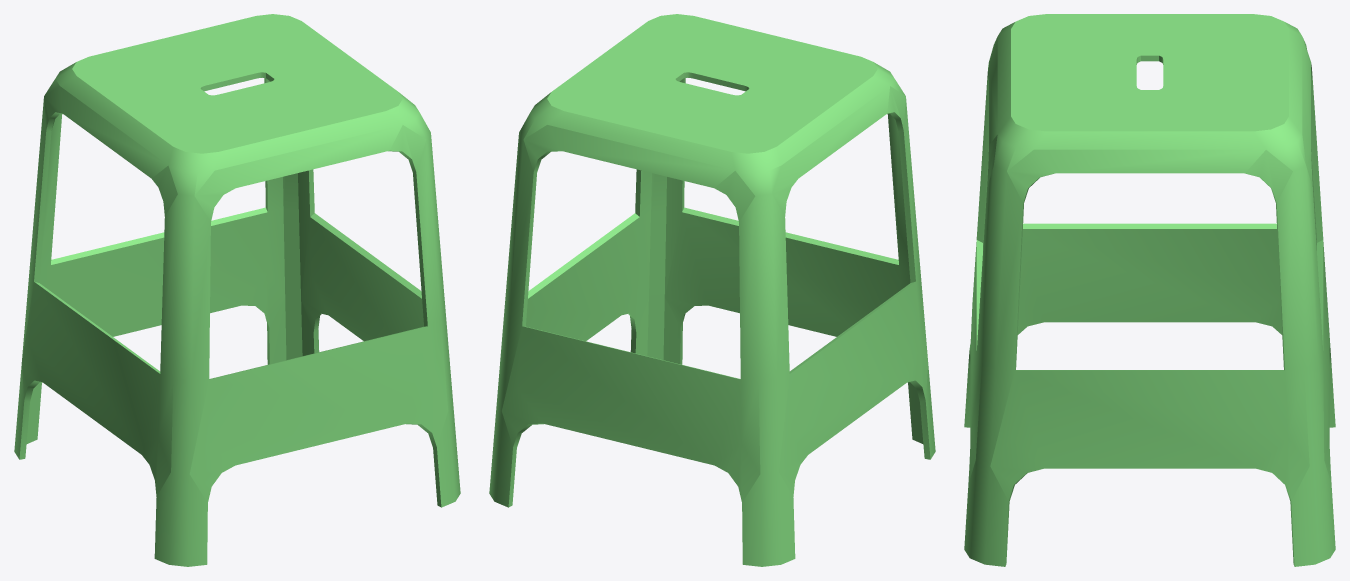
The model's file is Taburete_Verde.fbx.
3 renders of one model, left to right at view 1: azimuth 30°, elevation 25°; view 2: azimuth 150°, elevation 25°; view 3: azimuth 270°, elevation 25°, orthographic. The views are drawn at different scales.
Visible parts, largest first — view 1: Taburete; view 2: Taburete; view 3: Taburete.
Part boxes in pixels (bbox=[...]): Taburete: bbox=[14, 14, 460, 566]; Taburete: bbox=[489, 14, 935, 566]; Taburete: bbox=[964, 14, 1335, 566].
Size of the model in its own units: 231 by 285 by 231.
